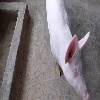heo: (50, 30, 92, 99)
